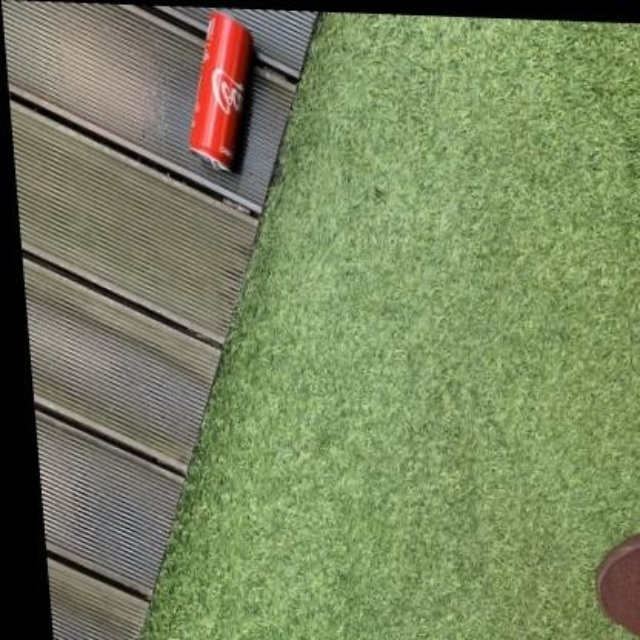trash: (189, 12, 252, 169)
